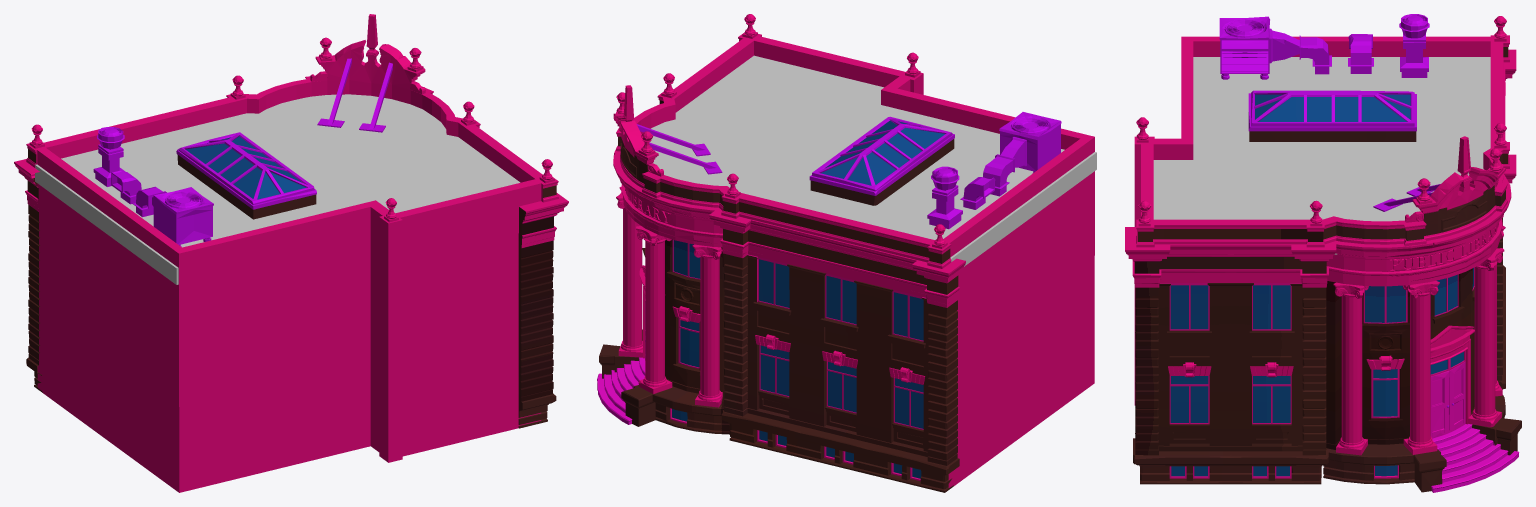
The model's file is Library.fbx.
3 renders of one model, left to right at view 1: azimuth 30°, elevation 25°; view 2: azimuth 150°, elevation 25°; view 3: azimuth 270°, elevation 25°, orthographic. The views are drawn at different scales.
Visible parts, largest first — view 1: SM_Backhill_Library_01.mo; view 2: SM_Backhill_Library_01.mo; view 3: SM_Backhill_Library_01.mo.
Boxes of the visible parts, x1=… form: SM_Backhill_Library_01.mo: x1=14, y1=14, x2=568, y2=492; SM_Backhill_Library_01.mo: x1=597, y1=14, x2=1096, y2=492; SM_Backhill_Library_01.mo: x1=1125, y1=14, x2=1521, y2=492.
Bounding box in the file's own units: 1584 × 1212 × 1312.
